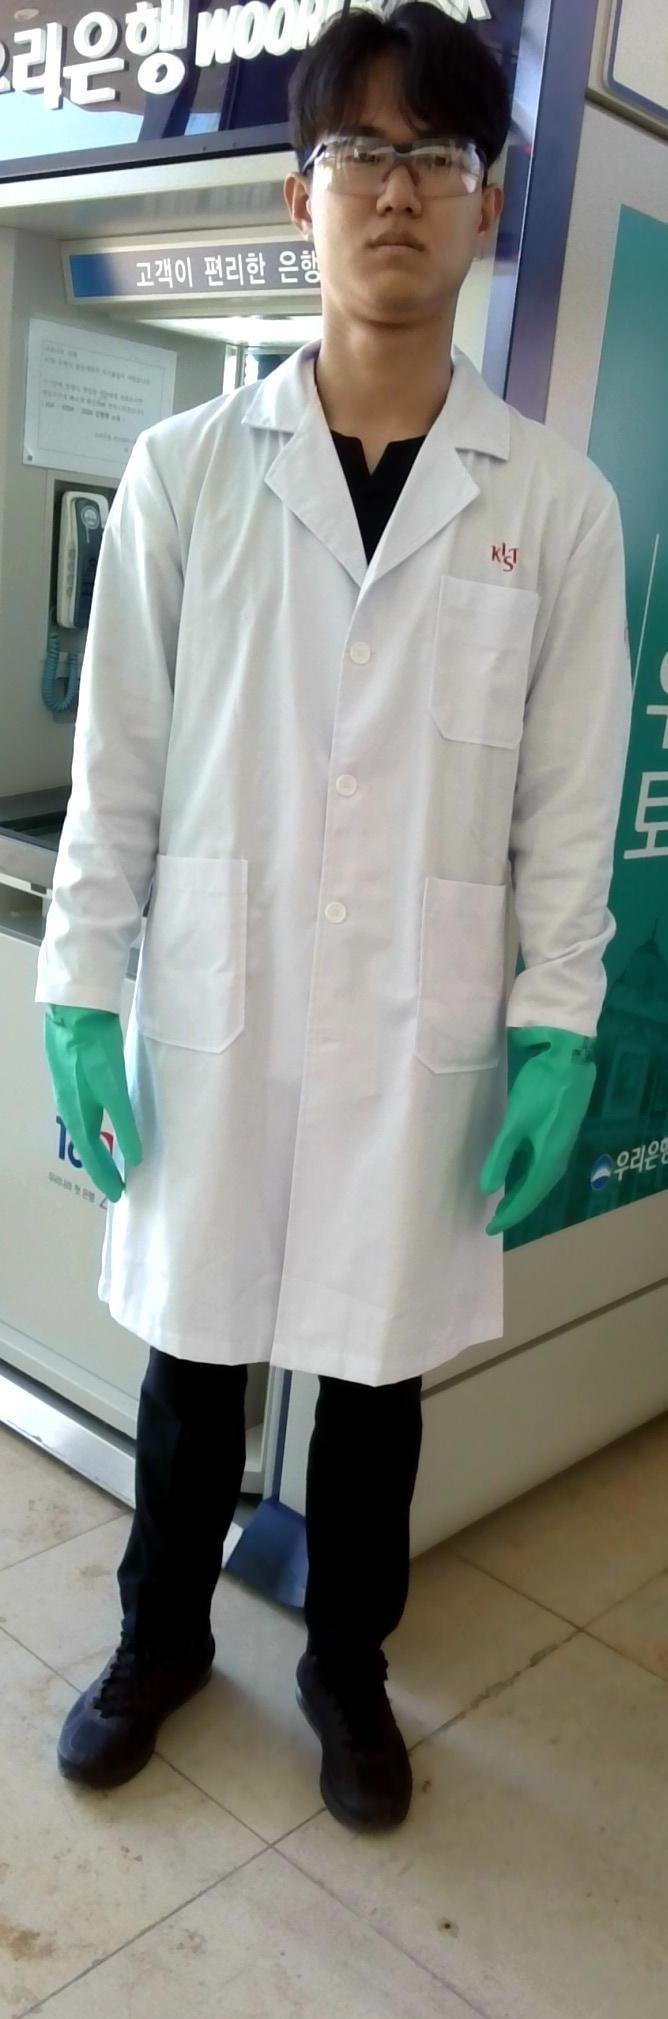lab_coat: (108, 400, 511, 1355)
